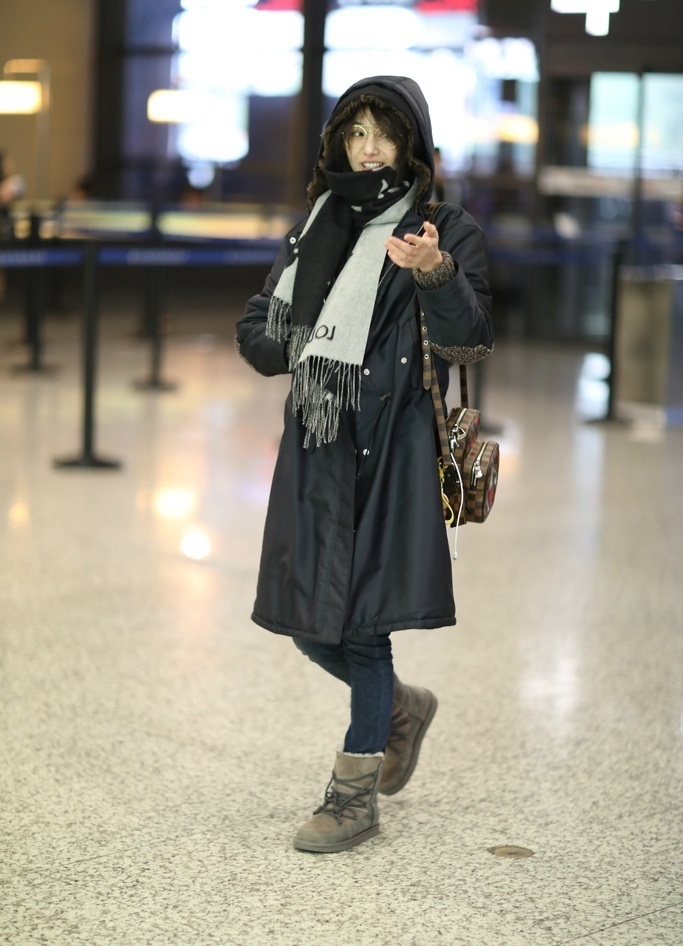face: (346, 108, 399, 190)
